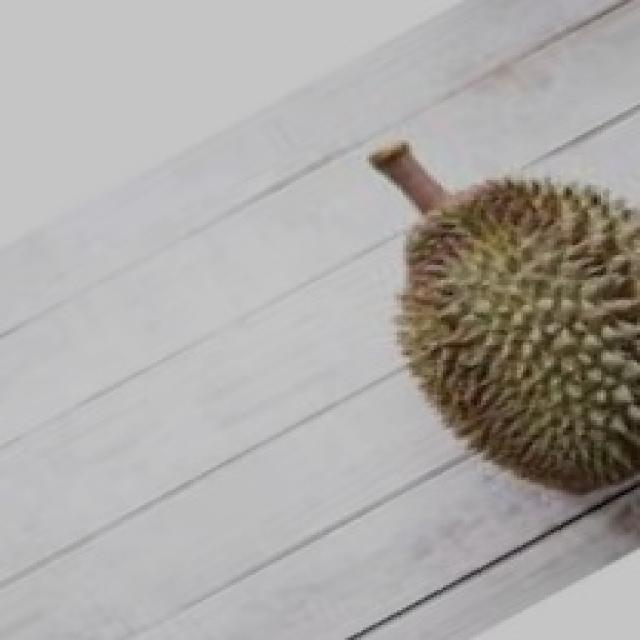fruit: (351, 155, 640, 533)
